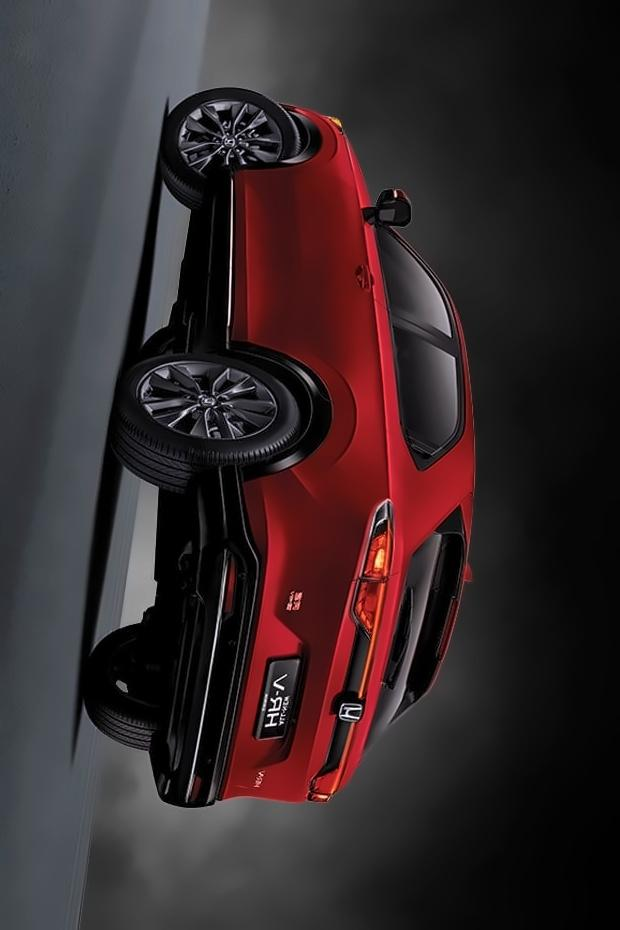Fender - -F-L-: (204, 84, 406, 236)
Fender - -R-L-: (226, 336, 437, 536)
Passenger-s door - -F-L-: (207, 149, 500, 361)
Passenger-s door - -R-L-: (179, 283, 483, 475)
Rear bumper: (143, 450, 312, 808)
Rear light - -L-: (348, 496, 400, 637)
Side bumper - -L-: (182, 166, 270, 361)
Side mirror - -L-: (292, 498, 485, 808), (360, 176, 413, 241)
